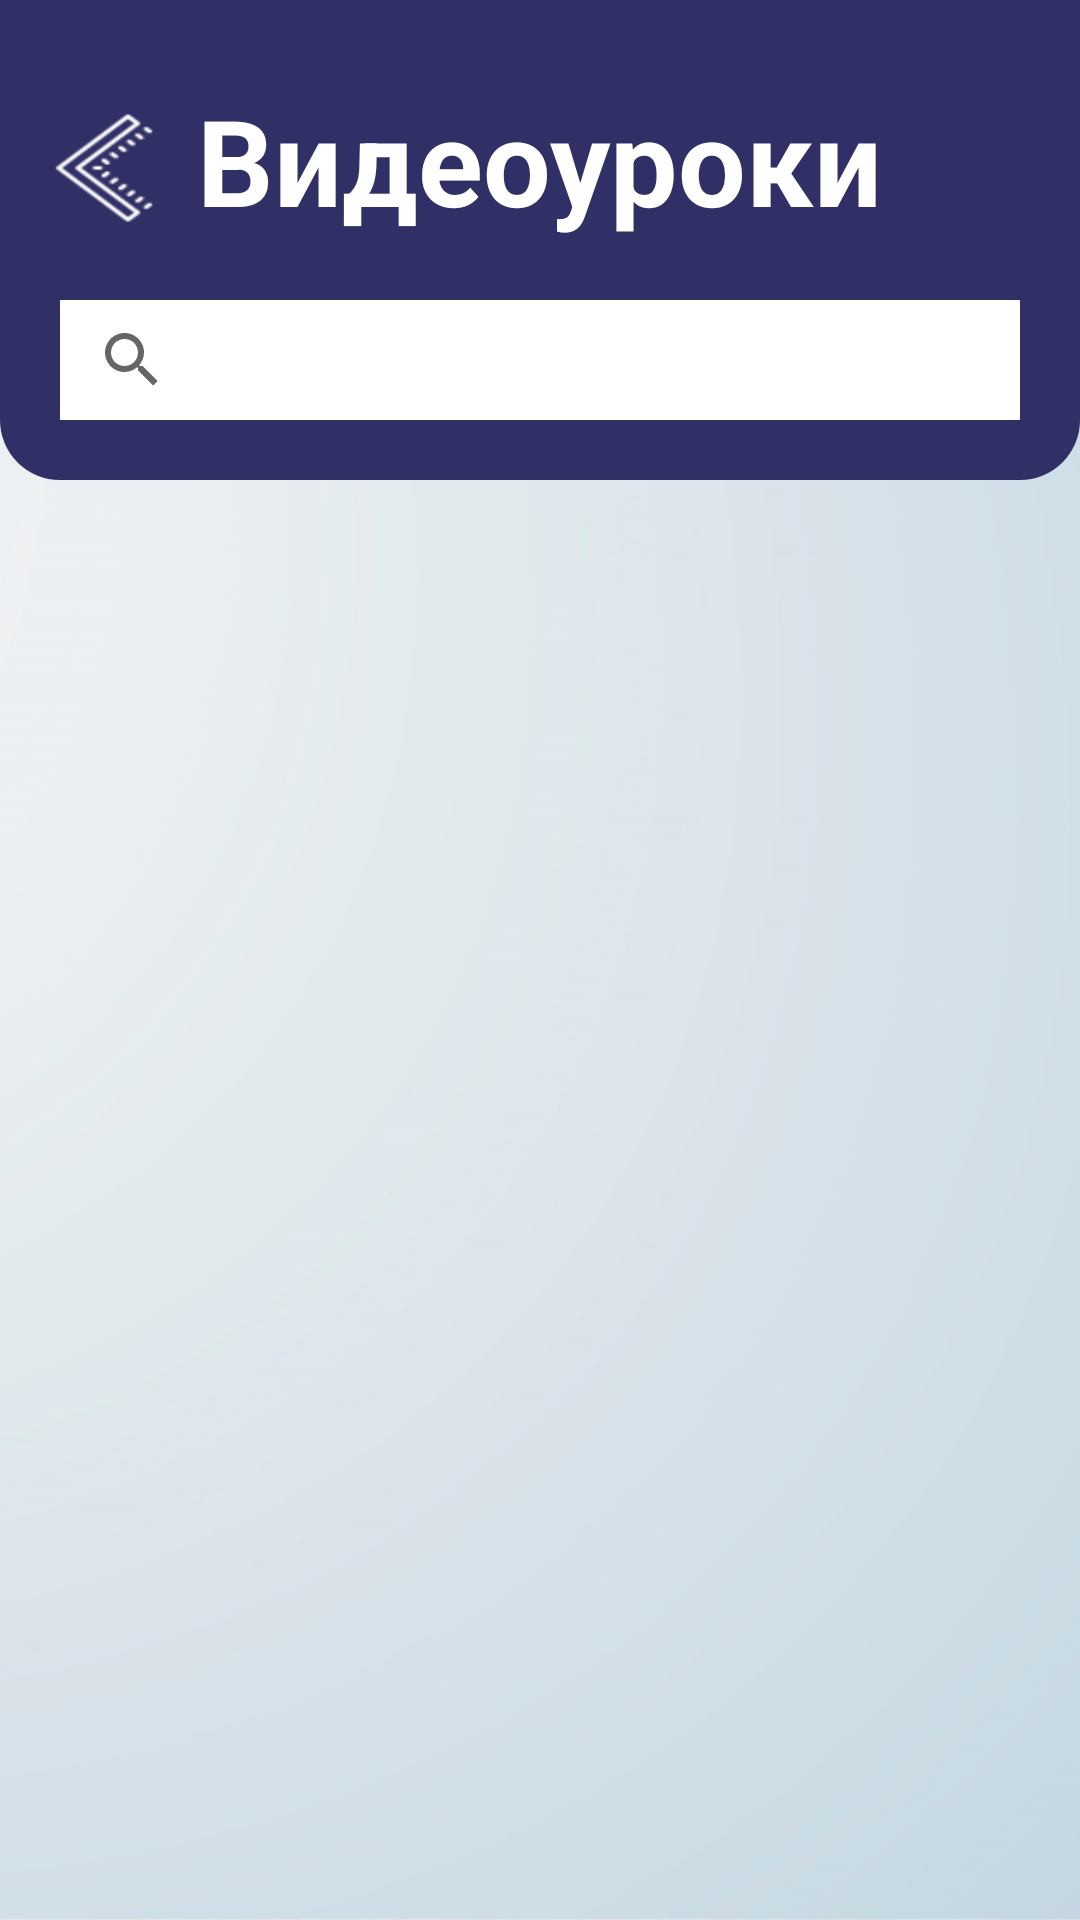

Where to tap for icons on this 1080 × 1920 app screen, as [x,y]:
back: [104,168]
